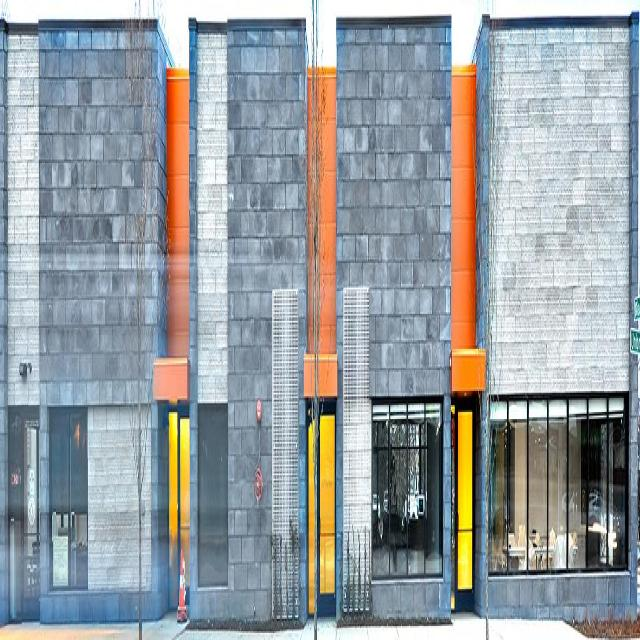door: (8, 408, 41, 629), (307, 402, 338, 624), (454, 403, 476, 618), (167, 409, 190, 612)
wall: (0, 8, 639, 624)
windows: (491, 402, 628, 570), (371, 401, 442, 576), (51, 409, 88, 588), (196, 402, 229, 584)
